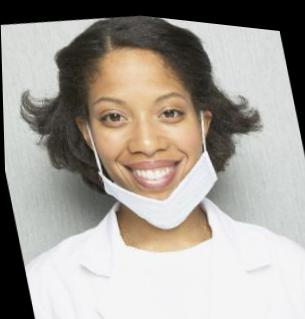WRONG: (78, 60, 220, 234)
